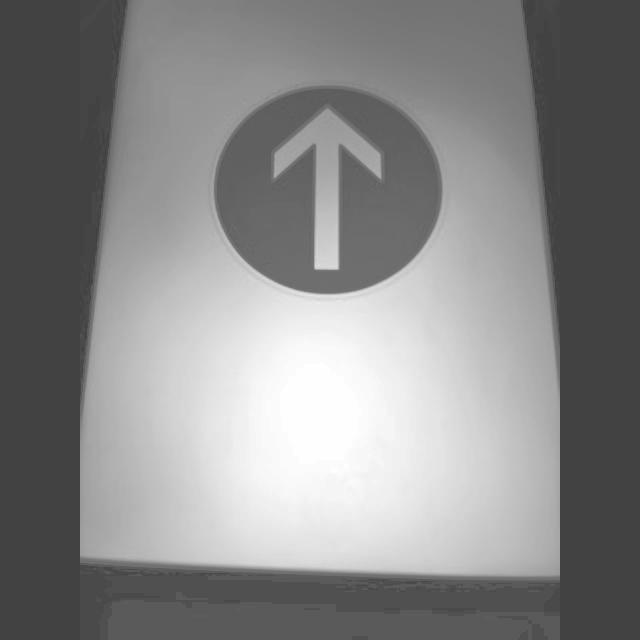GO FORWARD: (210, 82, 446, 296)
